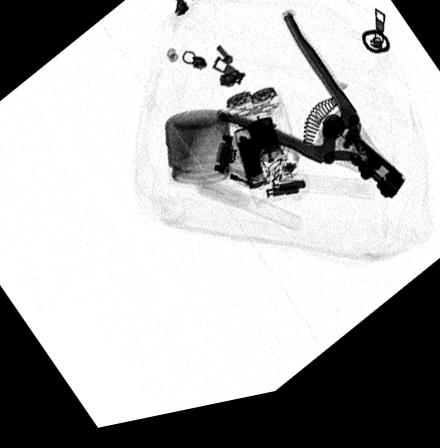Pliers: (215, 26, 406, 219)
